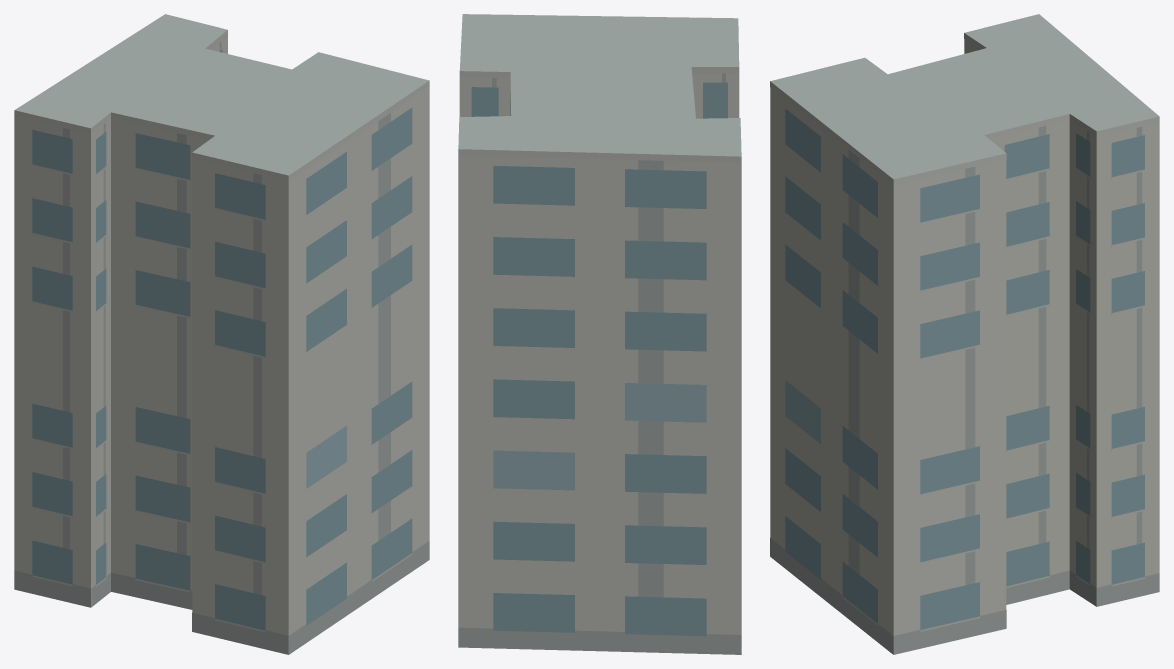
File: survey-upis-32826905.glb
3 renders of one model, left to right at view 1: azimuth 30°, elevation 25°; view 2: azimuth 150°, elevation 25°; view 3: azimuth 270°, elevation 25°, orthographic. The views are drawn at different scales.
Visible parts, largest first — view 1: survey-upis-32826905.tmp; view 2: survey-upis-32826905.tmp; view 3: survey-upis-32826905.tmp.
Part boxes in pixels (<box>): survey-upis-32826905.tmp: <box>14,14,429,654</box>; survey-upis-32826905.tmp: <box>458,14,741,654</box>; survey-upis-32826905.tmp: <box>770,14,1159,654</box>.
Bounding box in the file's own units: 14.41 × 19.3 × 14.34.
